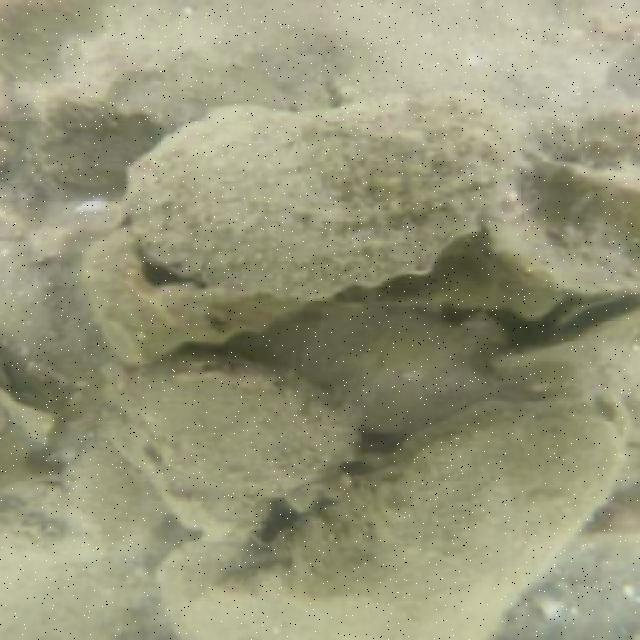Oyster-Closed: (286, 384, 634, 626), (120, 106, 518, 308), (151, 523, 501, 639), (111, 370, 358, 528), (252, 308, 497, 433), (482, 151, 639, 298)
Oyster-Open: (79, 215, 318, 371), (547, 288, 631, 338)
